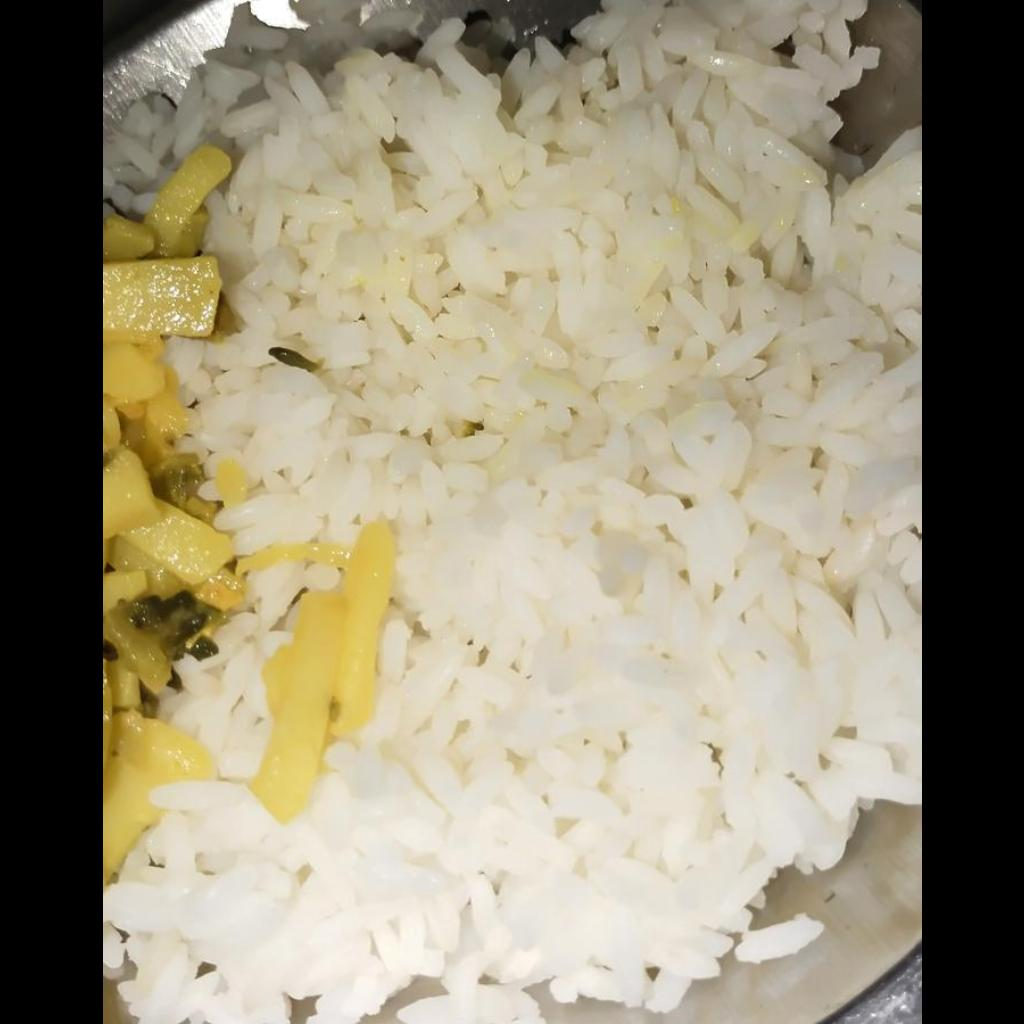potato: (102, 147, 393, 885)
rice: (102, 1, 920, 1019)
